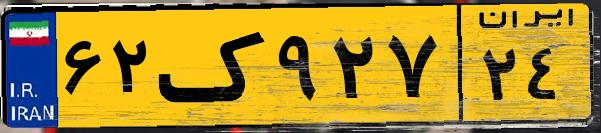2: (330, 28, 385, 110), (475, 38, 525, 113), (110, 28, 158, 98)
4: (525, 38, 570, 115)
6: (57, 26, 110, 100)
7: (385, 28, 445, 110)
9: (270, 28, 330, 110)
ک: (158, 12, 270, 120)
